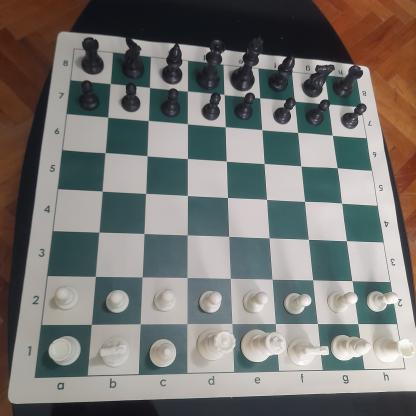black-bishop: (266, 51, 296, 94), (160, 40, 185, 84)
black-king: (229, 34, 267, 93)
black-knight: (121, 34, 148, 80), (300, 63, 334, 99)
black-pawn: (340, 102, 368, 132), (76, 79, 101, 112), (304, 98, 330, 129), (160, 84, 182, 118), (270, 97, 295, 126), (120, 82, 142, 114), (200, 92, 224, 121), (233, 90, 255, 121)
black-queen: (195, 37, 228, 90)
black-rook: (78, 35, 108, 76), (332, 64, 364, 99)
white-bishop: (330, 332, 373, 363), (146, 337, 178, 369)
white-king: (239, 326, 288, 364)
white-knight: (287, 336, 330, 370), (99, 336, 132, 369)
white-pawn: (364, 289, 400, 315), (52, 282, 80, 313), (282, 290, 313, 318), (326, 289, 358, 316), (241, 289, 271, 315), (104, 288, 130, 316), (153, 287, 178, 315), (198, 288, 223, 316)
white-queen: (194, 326, 236, 362)
white-rook: (373, 334, 416, 365), (47, 334, 82, 368)
